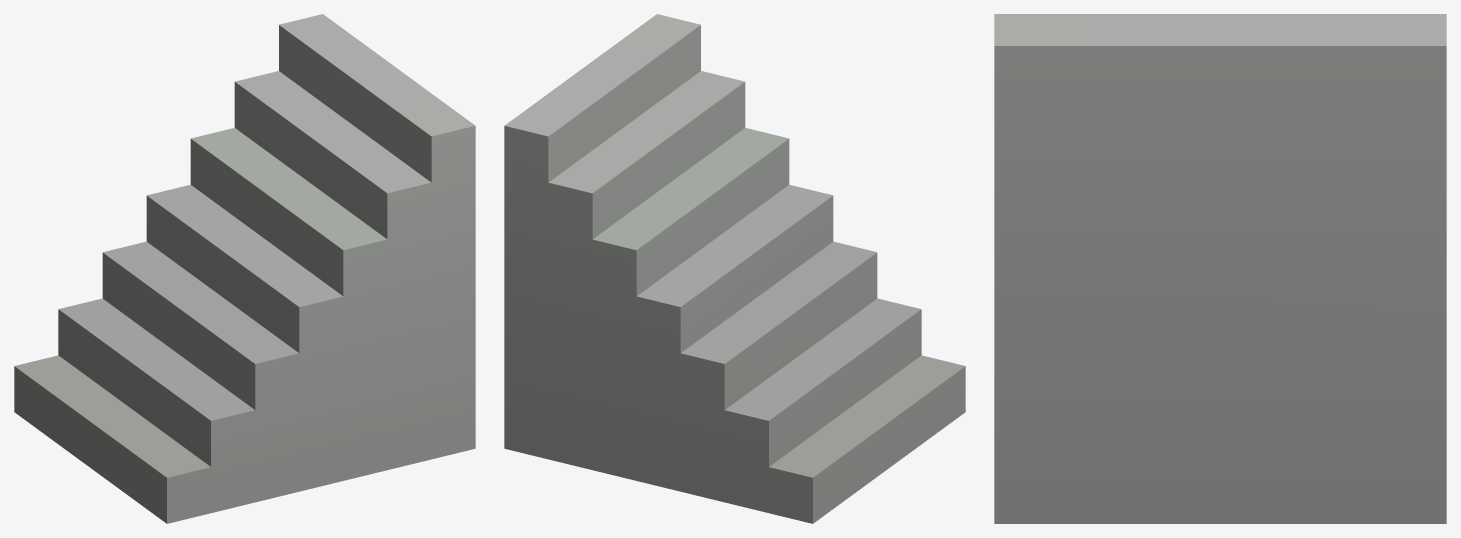
The model's file is Stairs.fbx.
3 views of the same model, side by side, from view 1: azimuth 30°, elevation 25°; view 2: azimuth 150°, elevation 25°; view 3: azimuth 270°, elevation 25° (orthographic). The views are drawn at different scales.
Visible parts, largest first — view 1: Stairs; view 2: Stairs; view 3: Stairs.
Boxes of the visible parts, box(x1,y1,x2,y2) form: Stairs: box(14, 14, 475, 523); Stairs: box(504, 14, 965, 523); Stairs: box(994, 14, 1446, 523).
Bounding box in the file's own units: 87.5 × 87.5 × 75.
